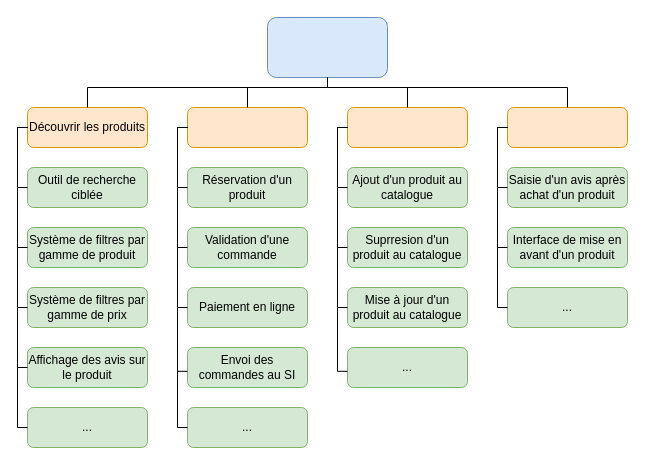
This 645x465 diagram has some shape labels left out. The centre of each missing label's shape, as x and y in pixels:
Acheter un produit: [247,127]
Promouvoir un produit: [567,127]
Site e-commerce Crêpes fourrées bretonnes: [327,47]
Vendre un produit: [407,127]
